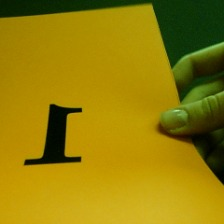orange1: (18, 98, 91, 169)
